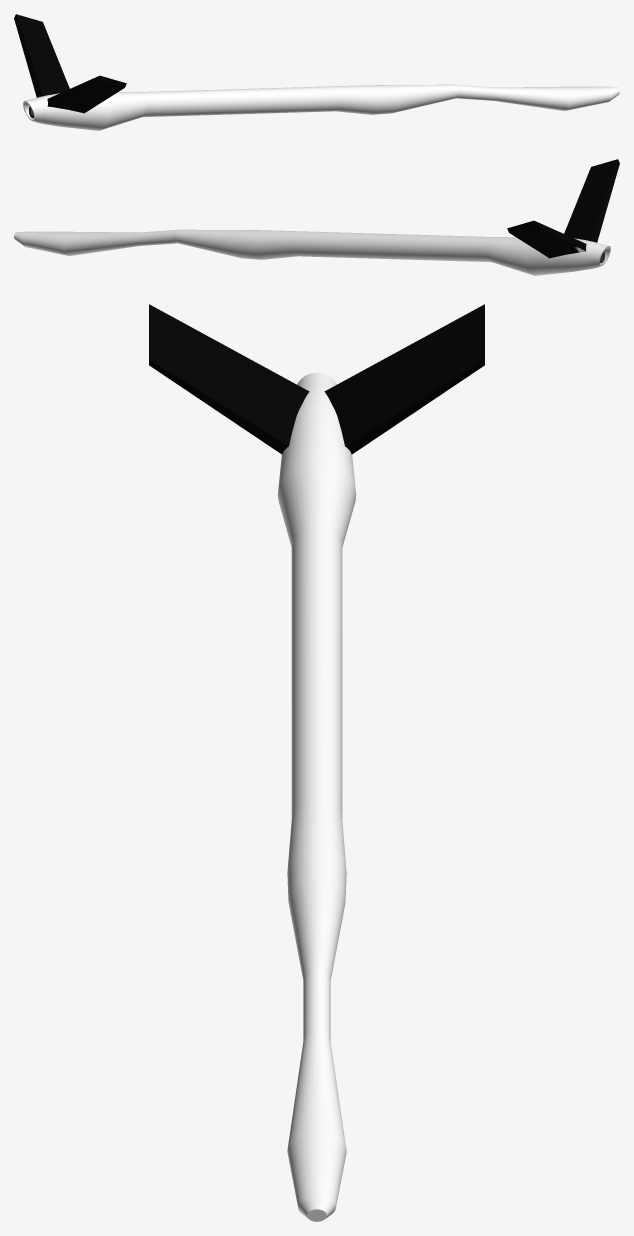
The picture shows the model from 3 angles, top to bottom: view 1: azimuth 30°, elevation 25°; view 2: azimuth 150°, elevation 25°; view 3: azimuth 270°, elevation 25°; orthographic projection. The views are drawn at different scales.
Parts seen in each view (by area): view 1: boom, boom.001; view 2: boom, boom.001; view 3: boom, boom.001.
Boxes of the visible parts, x1,y1,x2,y2 form: boom: (14,14,459,130); boom.001: (457,85,619,110); boom: (174,159,619,275); boom.001: (14,230,176,255); boom: (149,304,484,979); boom.001: (287,969,346,1221).
Size of the model in its own units: 13.09 by 4.03 by 3.22.
4 materials, 1 textured.
